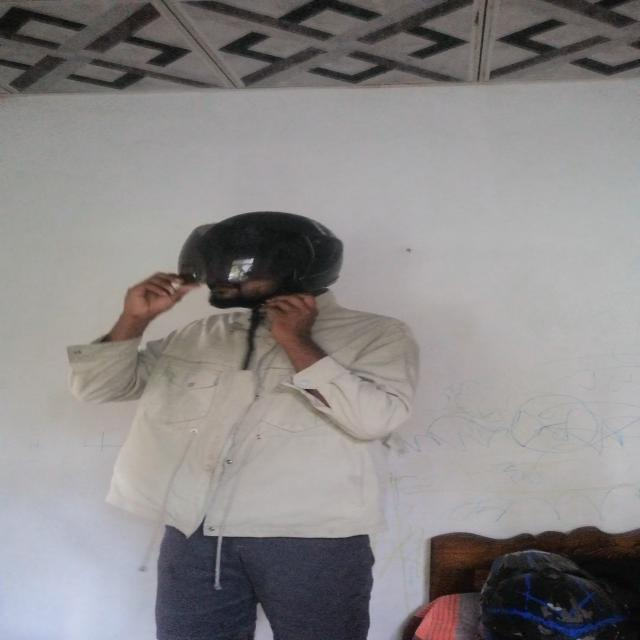Helmet_Wearer: (175, 202, 352, 316)
Jacket_Wearer: (72, 289, 444, 536)
Person: (73, 212, 416, 640)
